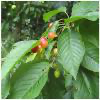Cherry leaf: (9, 61, 54, 99), (1, 38, 42, 78), (57, 26, 85, 84), (65, 1, 99, 28)
